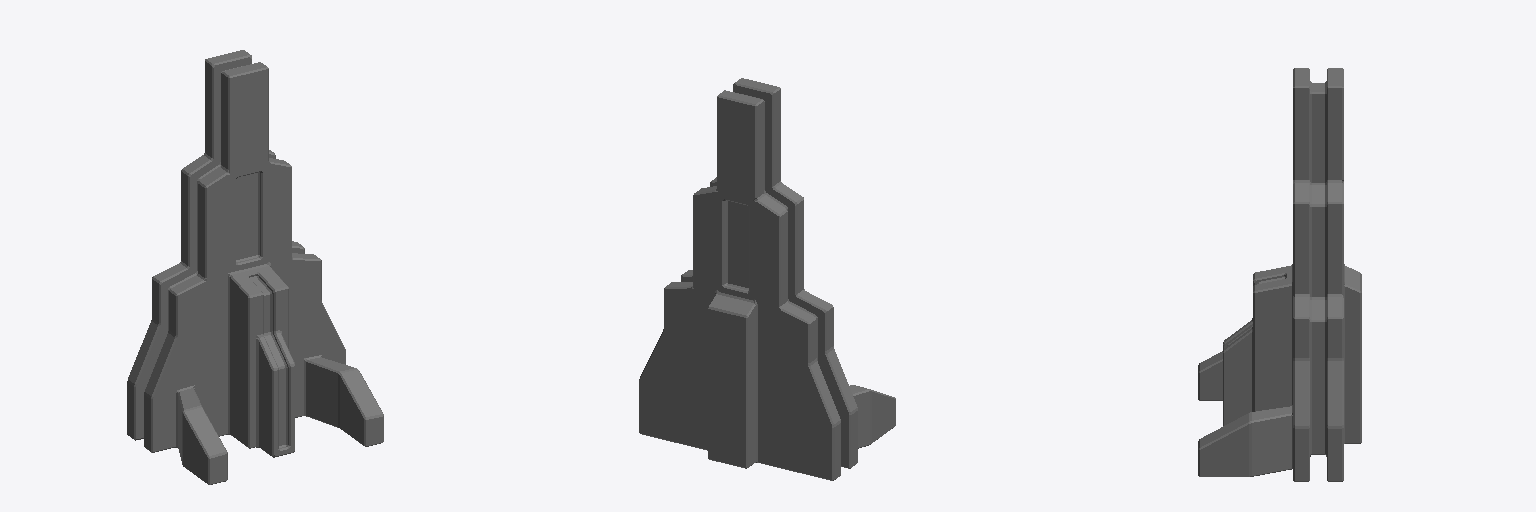
File: CageDevice_ExportOBJ.obj
3 views of the same model, side by side, from view 1: azimuth 30°, elevation 25°; view 2: azimuth 150°, elevation 25°; view 3: azimuth 270°, elevation 25° (orthographic).
Visible parts, largest first — view 1: pCube7; view 2: pCube7; view 3: pCube7.
Part boxes in pixels (left/top/right/bottom): pCube7: left=127, top=50, right=383, bottom=484; pCube7: left=639, top=78, right=895, bottom=480; pCube7: left=1198, top=68, right=1361, bottom=481.
Size of the model in its own units: 101 by 177 by 73.08.